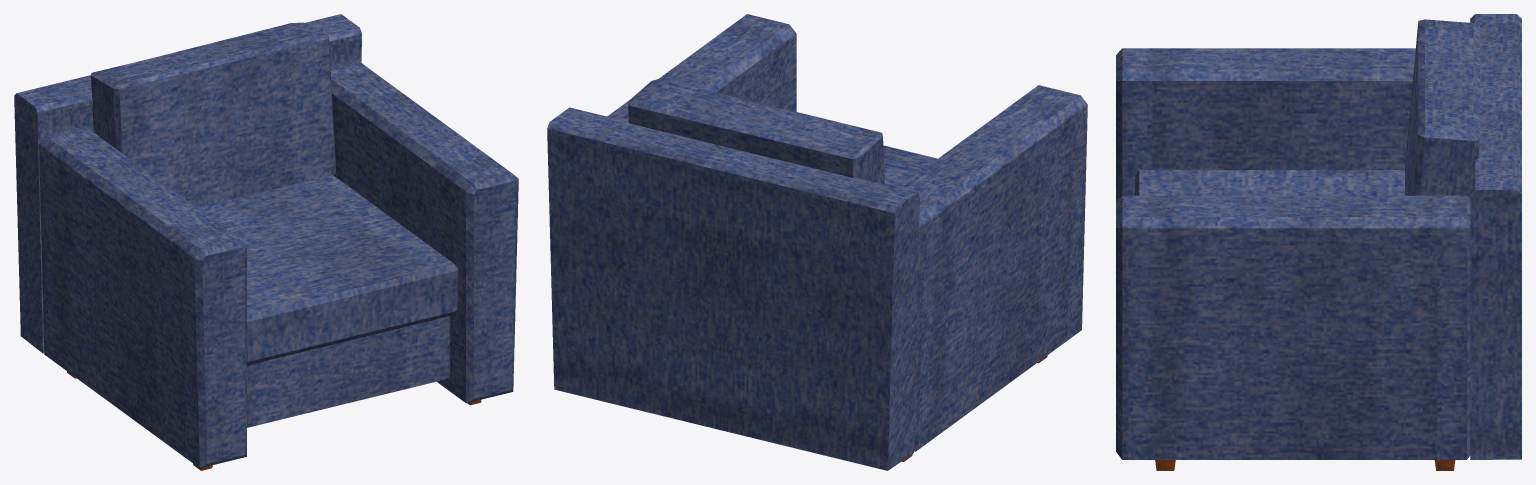
The model's file is armchair_blue.obj.
3 views of the same model, side by side, from view 1: azimuth 30°, elevation 25°; view 2: azimuth 150°, elevation 25°; view 3: azimuth 270°, elevation 25° (orthographic). The views are drawn at different scales.
Visible parts, largest first — view 1: armchair_blue; view 2: armchair_blue; view 3: armchair_blue.
Part boxes in pixels (<box>): armchair_blue: <box>14,14,518,470</box>; armchair_blue: <box>547,14,1087,470</box>; armchair_blue: <box>1116,14,1521,470</box>.
Size of the model in its own units: 1.4 by 1.19 by 1.36.
